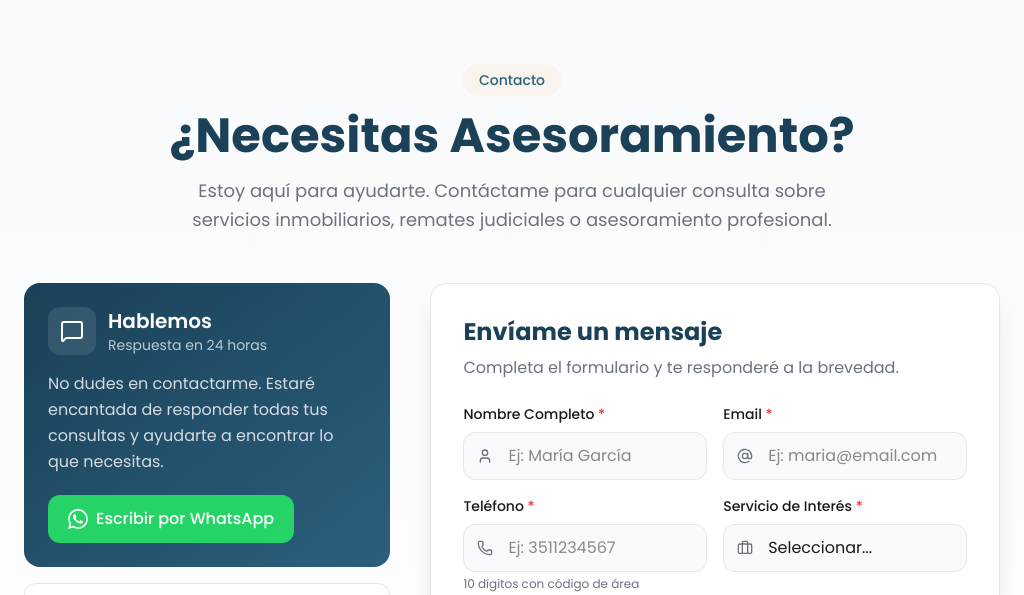
Contact Form › validates email format
The width and height of the screenshot is (1024, 595).
In the field with placeholder "Ej: maria@email.com": (845, 456) [723,432,967,480], type "invalid-email"
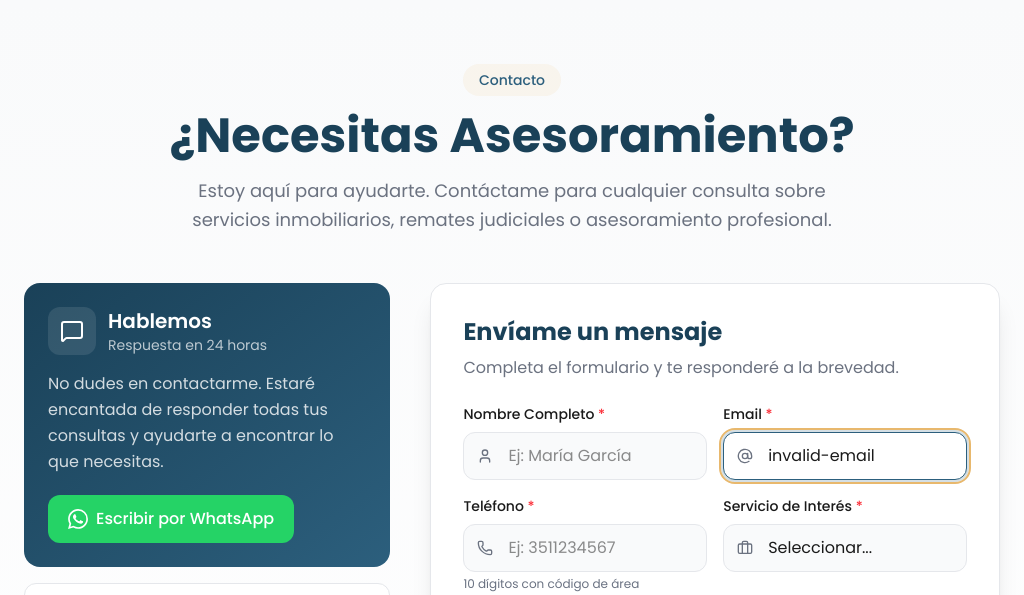
Press Tab
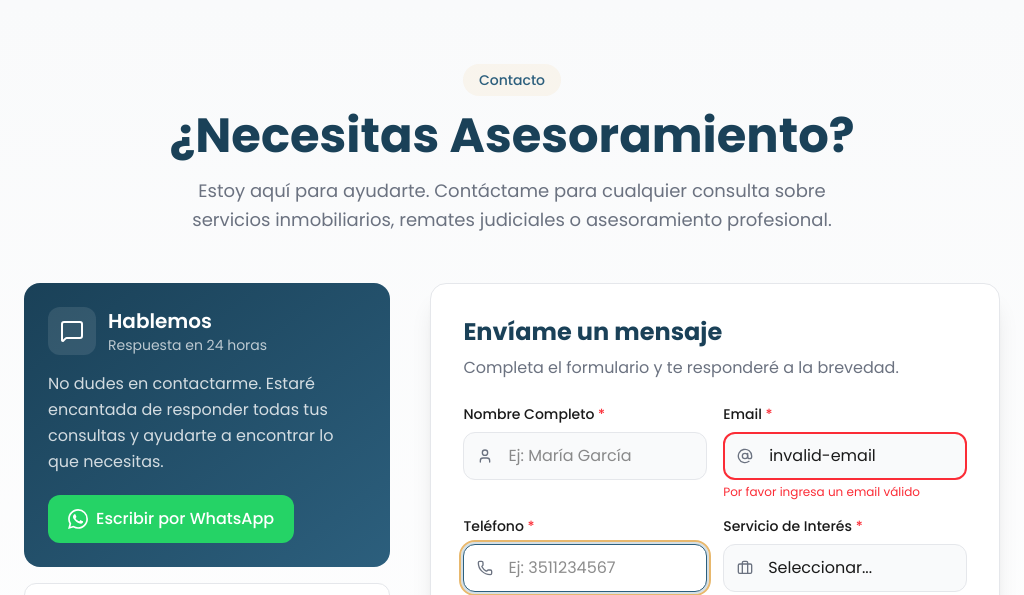
Expected: the text "Por favor ingresa un email válido" is shown, [723,482,920,500]
